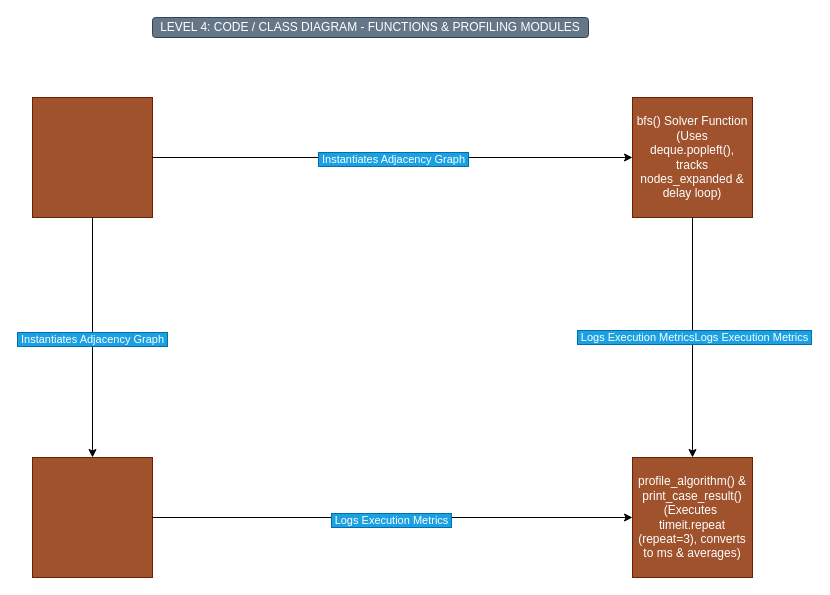
This 830x595 diagram has some shape labels left out. Each missing label, with the box of its shape:
create_graph() Function (Builds dict: {i: [i+1, i+2, i+3, i+4]} for 1200 nodes): (32, 96, 152, 218)
dfs() Solver Function (Uses list.pop(), reversed(graph[node]) & delay loop): (32, 456, 152, 578)
